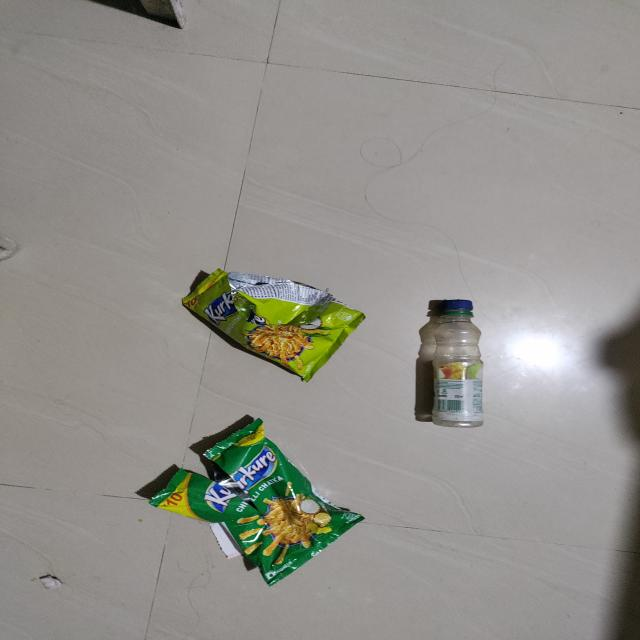dry: (111, 412, 345, 588), (161, 237, 375, 389), (412, 296, 501, 445)
